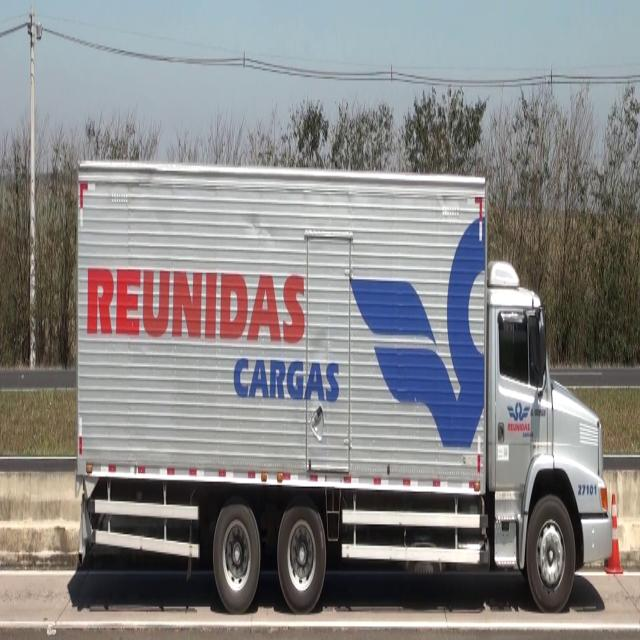-axle: (529, 491, 574, 617), (277, 504, 327, 611), (216, 503, 260, 604)
